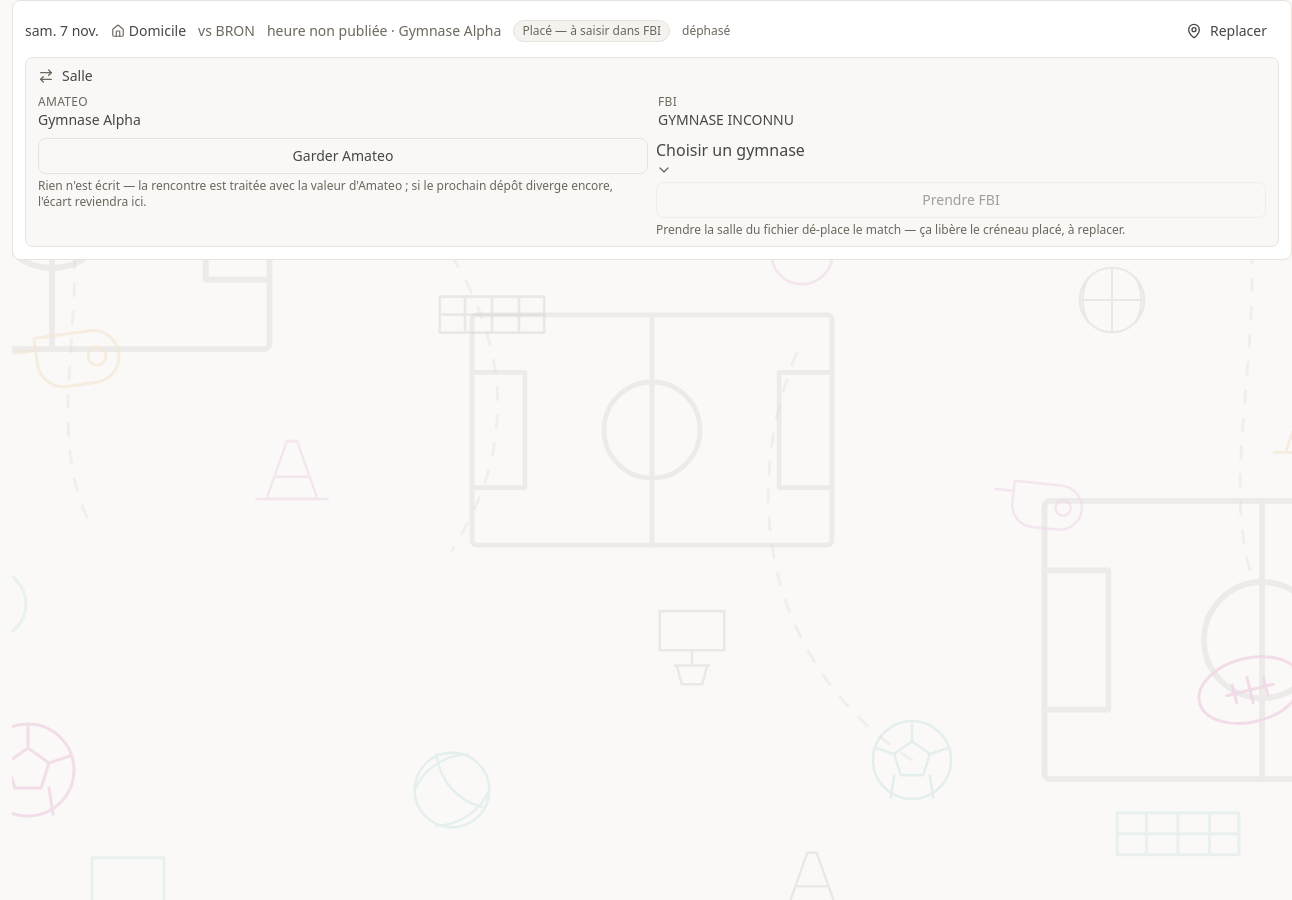
Scenario: ReviewQueueRow — écart de salle : appariement inline (chantier A PR 4) › le sélecteur offre l'option « Terrain neutre (pas chez nous) »
The image size is (1292, 900).
Step 1. Click the button "Choisir un gymnase" → click(730, 158), box 656,138 -> 805,178
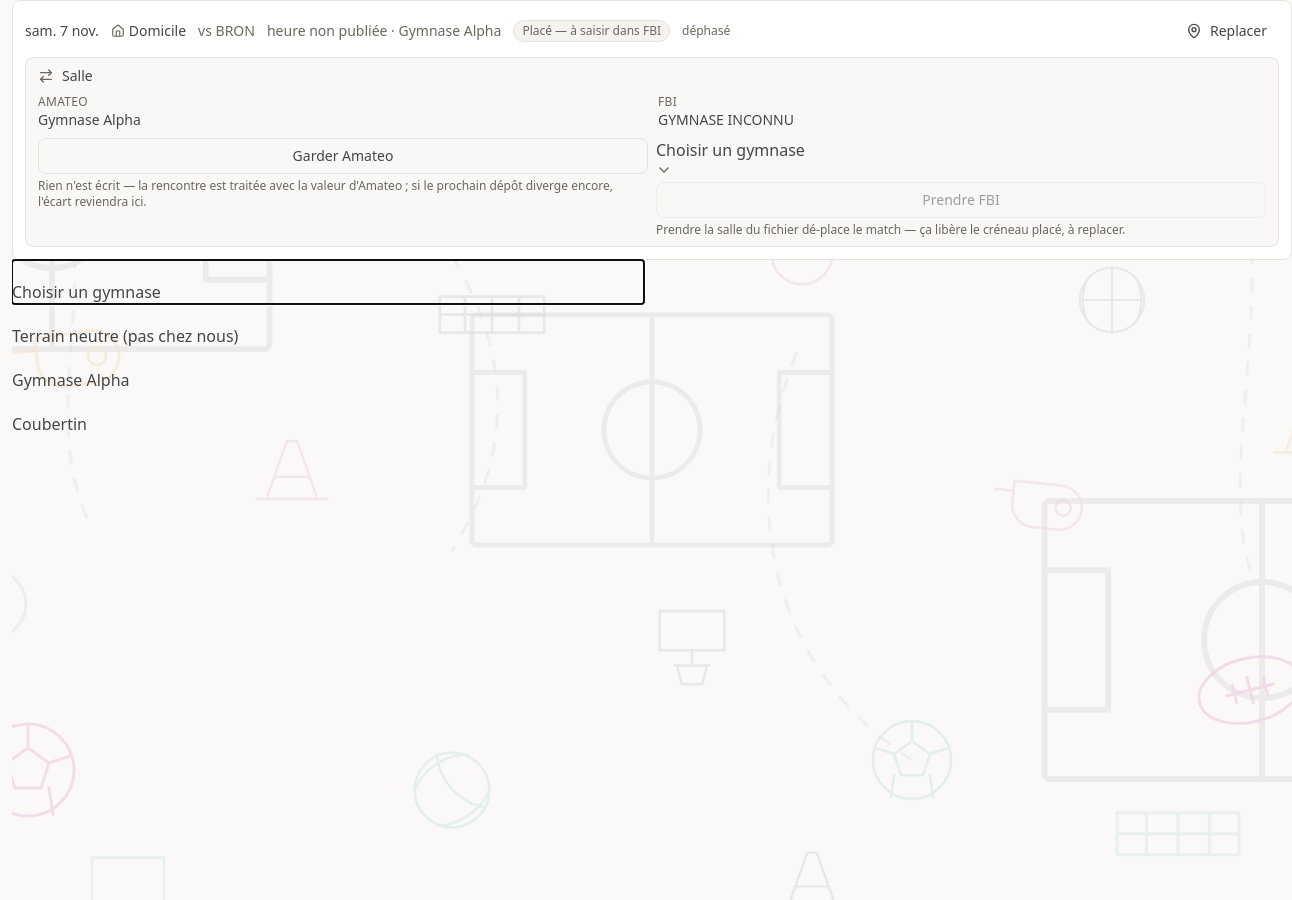
Expected: the option "Terrain neutre (pas chez nous)" is shown, 12,325 -> 238,347
